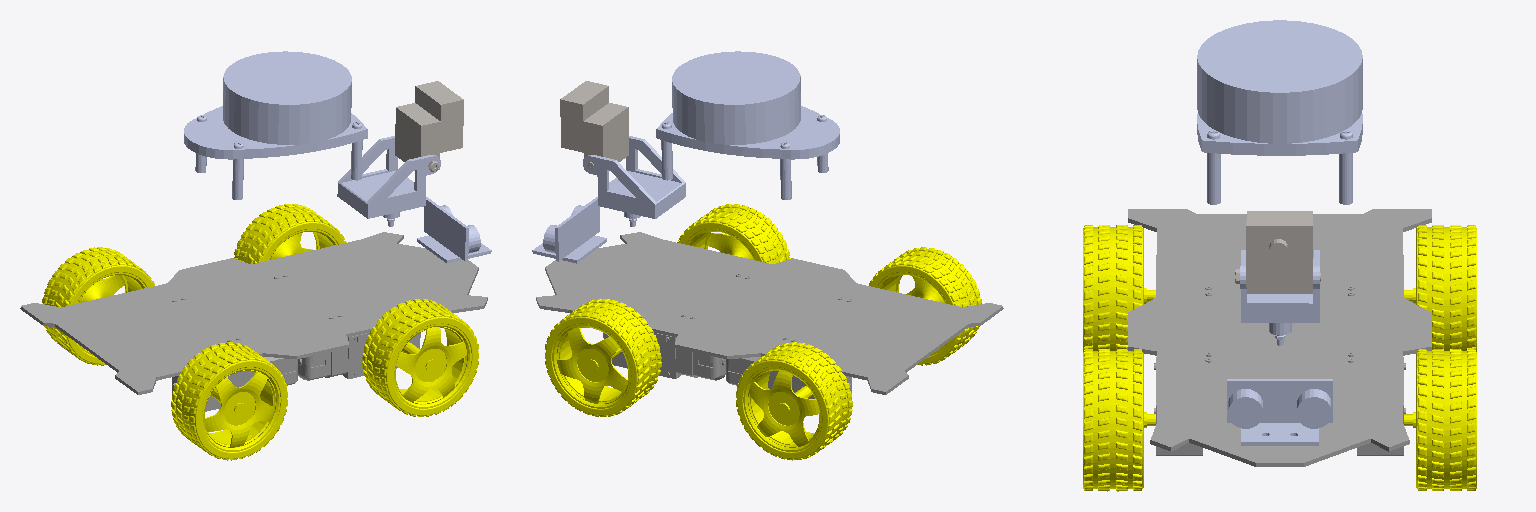
robot.urdf — pmubot_assembly2:
<?xml version="1.0" encoding="utf-8"?>
<!-- This URDF was automatically created by SolidWorks to URDF Exporter! Originally created by [author] ([email redacted]) 
     Commit Version: 1.6.0-4-g7f85cfe  Build Version: 1.6.7995.38578
     For more information, please see http://wiki.ros.org/sw_urdf_exporter -->
<robot
  name="pmubot_assembly2">
  <link
    name="pbot_base">
    <inertial>
      <origin
        xyz="-0.000212194447663593 -0.00144799416234487 0.0371639151331253"
        rpy="0 0 0" />
      <mass
        value="0.888052161793351" />
      <inertia
        ixx="0.000531263296561005"
        ixy="-3.65215923450924E-07"
        ixz="1.61778679682901E-05"
        iyy="0.00115013165869859"
        iyz="-1.80237443214602E-08"
        izz="0.00163705290551028" />
    </inertial>
    <visual>
      <origin
        xyz="0 0 0"
        rpy="0 0 0" />
      <geometry>
        <mesh
          filename="package://pmubot_assembly2/meshes/pbot_base.STL" />
      </geometry>
      <material
        name="">
        <color
          rgba="0.698039215686274 0.698039215686274 0.698039215686274 1" />
      </material>
    </visual>
    <collision>
      <origin
        xyz="0 0 0"
        rpy="0 0 0" />
      <geometry>
        <mesh
          filename="package://pmubot_assembly2/meshes/pbot_base.STL" />
      </geometry>
    </collision>
  </link>
  <link
    name="pbot_rf_w">
    <inertial>
      <origin
        xyz="7.04405284102094E-11 0.000279731374778269 4.45704893131671E-10"
        rpy="0 0 0" />
      <mass
        value="0.0302375584217029" />
      <inertia
        ixx="1.15702195640707E-05"
        ixy="-7.57166982825314E-15"
        ixz="-3.01407530521655E-14"
        iyy="1.96090962980717E-05"
        iyz="-1.06124677525427E-13"
        izz="1.15702201303152E-05" />
    </inertial>
    <visual>
      <origin
        xyz="0 0 0"
        rpy="0 0 0" />
      <geometry>
        <mesh
          filename="package://pmubot_assembly2/meshes/pbot_rf_w.STL" />
      </geometry>
      <material
        name="">
        <color
          rgba="1 1 0 1" />
      </material>
    </visual>
    <collision>
      <origin
        xyz="0 0 0"
        rpy="0 0 0" />
      <geometry>
        <mesh
          filename="package://pmubot_assembly2/meshes/pbot_rf_w.STL" />
      </geometry>
    </collision>
  </link>
  <joint
    name="pbot_rf_w_to_base"
    type="continuous">
    <origin
      xyz="0.0470881159981717 -0.0705 -0.0132839044168557"
      rpy="0 0.016609457820692 0" />
    <parent
      link="pbot_base" />
    <child
      link="pbot_rf_w" />
    <axis
      xyz="0 1 0" />
  </joint>
  <link
    name="pbot_rr_w">
    <inertial>
      <origin
        xyz="5.38798686222641E-10 0.000279731333118954 5.40715007490977E-10"
        rpy="0 0 0" />
      <mass
        value="0.0302375580628956" />
      <inertia
        ixx="1.15702196703268E-05"
        ixy="-1.3444926848086E-13"
        ixz="-3.648973998551E-14"
        iyy="1.96090960765893E-05"
        iyz="-1.23593703580994E-13"
        izz="1.1570219796082E-05" />
    </inertial>
    <visual>
      <origin
        xyz="0 0 0"
        rpy="0 0 0" />
      <geometry>
        <mesh
          filename="package://pmubot_assembly2/meshes/pbot_rr_w.STL" />
      </geometry>
      <material
        name="">
        <color
          rgba="1 1 0 1" />
      </material>
    </visual>
    <collision>
      <origin
        xyz="0 0 0"
        rpy="0 0 0" />
      <geometry>
        <mesh
          filename="package://pmubot_assembly2/meshes/pbot_rr_w.STL" />
      </geometry>
    </collision>
  </link>
  <joint
    name="pbot_rr_w_to_base"
    type="continuous">
    <origin
      xyz="-0.0728953319370115 -0.0705 -0.0112908611194895"
      rpy="0 0.0166094578206924 0" />
    <parent
      link="pbot_base" />
    <child
      link="pbot_rr_w" />
    <axis
      xyz="0 1 0" />
  </joint>
  <link
    name="pbot_lf_w">
    <inertial>
      <origin
        xyz="2.20207470313927E-10 -0.000279731201700426 -2.02053760875454E-10"
        rpy="0 0 0" />
      <mass
        value="0.0302375576064607" />
      <inertia
        ixx="1.15702197035643E-05"
        ixy="5.8788148071093E-14"
        ixz="1.10485744750902E-14"
        iyy="1.96090957656786E-05"
        iyz="-6.70315487762859E-14"
        izz="1.15702193827656E-05" />
    </inertial>
    <visual>
      <origin
        xyz="0 0 0"
        rpy="0 0 0" />
      <geometry>
        <mesh
          filename="package://pmubot_assembly2/meshes/pbot_lf_w.STL" />
      </geometry>
      <material
        name="">
        <color
          rgba="1 1 0 1" />
      </material>
    </visual>
    <collision>
      <origin
        xyz="0 0 0"
        rpy="0 0 0" />
      <geometry>
        <mesh
          filename="package://pmubot_assembly2/meshes/pbot_lf_w.STL" />
      </geometry>
    </collision>
  </link>
  <joint
    name="pbot_lf_w_to_base"
    type="continuous">
    <origin
      xyz="0.0470881159981717 0.0705 -0.0132839044168557"
      rpy="0 0.0166094578206922 0" />
    <parent
      link="pbot_base" />
    <child
      link="pbot_lf_w" />
    <axis
      xyz="0 -1 0" />
  </joint>
  <link
    name="pbot_lr_w">
    <inertial>
      <origin
        xyz="3.29489630024327E-11 -0.0002797313481048 -1.85563862886706E-10"
        rpy="0 0 0" />
      <mass
        value="0.0302375580133055" />
      <inertia
        ixx="1.15702196840428E-05"
        ixy="-2.03000475402312E-14"
        ixz="1.06746870190032E-13"
        iyy="1.96090960377303E-05"
        iyz="-5.58321083325077E-14"
        izz="1.15702197584358E-05" />
    </inertial>
    <visual>
      <origin
        xyz="0 0 0"
        rpy="0 0 0" />
      <geometry>
        <mesh
          filename="package://pmubot_assembly2/meshes/pbot_lr_w.STL" />
      </geometry>
      <material
        name="">
        <color
          rgba="1 1 0 1" />
      </material>
    </visual>
    <collision>
      <origin
        xyz="0 0 0"
        rpy="0 0 0" />
      <geometry>
        <mesh
          filename="package://pmubot_assembly2/meshes/pbot_lr_w.STL" />
      </geometry>
    </collision>
  </link>
  <joint
    name="pbot_lr_w_to_base"
    type="continuous">
    <origin
      xyz="-0.0728953319370116 0.0705 -0.0112908611194895"
      rpy="0 0.0166094578206921 0" />
    <parent
      link="pbot_base" />
    <child
      link="pbot_lr_w" />
    <axis
      xyz="0 -1 0" />
  </joint>
  <link
    name="pbot_sonar">
    <inertial>
      <origin
        xyz="0.00254491682770949 -4.23266584576622E-18 -0.00442304839537571"
        rpy="0 0 0" />
      <mass
        value="0.0495110191487618" />
      <inertia
        ixx="1.03481074988365E-05"
        ixy="-1.48112545695529E-21"
        ixz="2.35878891442608E-07"
        iyy="3.04932164399552E-06"
        iyz="1.63262731511754E-21"
        izz="9.79795359146923E-06" />
    </inertial>
    <visual>
      <origin
        xyz="0 0 0"
        rpy="0 0 0" />
      <geometry>
        <mesh
          filename="package://pmubot_assembly2/meshes/pbot_sonar.STL" />
      </geometry>
      <material
        name="">
        <color
          rgba="0.792156862745098 0.819607843137255 0.933333333333333 1" />
      </material>
    </visual>
    <collision>
      <origin
        xyz="0 0 0"
        rpy="0 0 0" />
      <geometry>
        <mesh
          filename="package://pmubot_assembly2/meshes/pbot_sonar.STL" />
      </geometry>
    </collision>
  </link>
  <joint
    name="sonar_to_base"
    type="fixed">
    <origin
      xyz="0.1048 0 0.023015"
      rpy="0 0.016609 0" />
    <parent
      link="pbot_base" />
    <child
      link="pbot_sonar" />
    <axis
      xyz="0 0 0" />
  </joint>
  <link
    name="pbot_camera_h">
    <inertial>
      <origin
        xyz="-0.00442120427949036 1.89949483748387E-05 -0.00284622380073214"
        rpy="0 0 0" />
      <mass
        value="0.107749250099924" />
      <inertia
        ixx="1.66906472405085E-05"
        ixy="2.34004269563963E-09"
        ixz="-2.00817695580187E-06"
        iyy="1.72352983259005E-05"
        iyz="8.62778612342202E-09"
        izz="2.41544637259914E-05" />
    </inertial>
    <visual>
      <origin
        xyz="0 0 0"
        rpy="0 0 0" />
      <geometry>
        <mesh
          filename="package://pmubot_assembly2/meshes/pbot_camera_h.STL" />
      </geometry>
      <material
        name="">
        <color
          rgba="0.792156862745098 0.819607843137255 0.933333333333333 1" />
      </material>
    </visual>
    <collision>
      <origin
        xyz="0 0 0"
        rpy="0 0 0" />
      <geometry>
        <mesh
          filename="package://pmubot_assembly2/meshes/pbot_camera_h.STL" />
      </geometry>
    </collision>
  </link>
  <joint
    name="camera_h_to_base"
    type="continuous">
    <origin
      xyz="0.069451 8.5741E-05 0.057354"
      rpy="0 0.016609 0" />
    <parent
      link="pbot_base" />
    <child
      link="pbot_camera_h" />
    <axis
      xyz="0 0 -1" />
  </joint>
  <link
    name="pbot_camera_v">
    <inertial>
      <origin
        xyz="0.00666977708243387 -0.0144960911947171 0.0135514367296394"
        rpy="0 0 0" />
      <mass
        value="0.0237451656745337" />
      <inertia
        ixx="3.58294133330356E-06"
        ixy="1.26129462744684E-09"
        ixz="-7.07892718500619E-07"
        iyy="3.26994433858154E-06"
        iyz="7.33327247126989E-10"
        izz="2.88968628542964E-06" />
    </inertial>
    <visual>
      <origin
        xyz="0 0 0"
        rpy="0 0 0" />
      <geometry>
        <mesh
          filename="package://pmubot_assembly2/meshes/pbot_camera_v.STL" />
      </geometry>
      <material
        name="">
        <color
          rgba="0.776470588235294 0.756862745098039 0.737254901960784 1" />
      </material>
    </visual>
    <collision>
      <origin
        xyz="0 0 0"
        rpy="0 0 0" />
      <geometry>
        <mesh
          filename="package://pmubot_assembly2/meshes/pbot_camera_v.STL" />
      </geometry>
    </collision>
  </link>
  <joint
    name="camera_v_to_camera_h"
    type="continuous">
    <origin
      xyz="0.016051 0.014031 0.0145"
      rpy="0 0 -0.0042963" />
    <parent
      link="pbot_camera_h" />
    <child
      link="pbot_camera_v" />
    <axis
      xyz="0 -1 0" />
  </joint>
  <link
    name="laser_frame">
    <inertial>
      <origin
        xyz="0.00208191942450915 3.89951965604511E-18 -0.00385299208880718"
        rpy="0 0 0" />
      <mass
        value="0.968613348864224" />
      <inertia
        ixx="0.000334583006933795"
        ixy="-5.33407128608831E-20"
        ixz="1.81257759360738E-21"
        iyy="0.000411095059912044"
        iyz="-3.2970666661773E-21"
        izz="0.000675110546906932" />
    </inertial>
    <visual>
      <origin
        xyz="0 0 0"
        rpy="0 0 0" />
      <geometry>
        <mesh
          filename="package://pmubot_assembly2/meshes/laser_frame.STL" />
      </geometry>
      <material
        name="">
        <color
          rgba="0.792156862745098 0.819607843137255 0.933333333333333 1" />
      </material>
    </visual>
    <collision>
      <origin
        xyz="0 0 0"
        rpy="0 0 0" />
      <geometry>
        <mesh
          filename="package://pmubot_assembly2/meshes/laser_frame.STL" />
      </geometry>
    </collision>
  </link>
  <joint
    name="laser_joint"
    type="fixed">
    <origin
      xyz="0.0039648 0 0.12415"
      rpy="0 -0.016609 3.1416" />
    <parent
      link="pbot_base" />
    <child
      link="laser_frame" />
    <axis
      xyz="0 0 0" />
  </joint>
</robot>

--- What the picture shows (computed from the rendered views, not written in the file) ---
Views: 3 orthographic renders of the robot side by side, from view 1: azimuth 30°, elevation 25°; view 2: azimuth 150°, elevation 25°; view 3: azimuth 270°, elevation 25°.
Robot: pmubot_assembly2 — 9 links, 8 joints (6 continuous, 2 fixed); root link pbot_base; default pose: all joints at 0.
Links seen in each view (by area): view 1: pbot_base, laser_frame, pbot_rf_w, pbot_rr_w, pbot_lr_w, pbot_camera_h, pbot_camera_v, pbot_lf_w, pbot_sonar; view 2: pbot_base, laser_frame, pbot_lr_w, pbot_lf_w, pbot_camera_h, pbot_rr_w, pbot_camera_v, pbot_rf_w, pbot_sonar; view 3: pbot_base, laser_frame, pbot_rf_w, pbot_lf_w, pbot_rr_w, pbot_lr_w, pbot_sonar, pbot_camera_v, pbot_camera_h.
Boxes of the visible links, box(x1,y1,x2,y2) form: pbot_base: box(20, 232, 487, 411); laser_frame: box(184, 51, 367, 199); pbot_rf_w: box(362, 299, 478, 416); pbot_rr_w: box(171, 342, 287, 460); pbot_lr_w: box(42, 247, 154, 365); pbot_camera_h: box(337, 136, 440, 226); pbot_camera_v: box(395, 81, 463, 171); pbot_lf_w: box(233, 204, 346, 263); pbot_sonar: box(417, 197, 491, 263); pbot_base: box(536, 232, 1003, 398); laser_frame: box(656, 51, 839, 199); pbot_lr_w: box(736, 342, 852, 460); pbot_lf_w: box(545, 299, 661, 416); pbot_camera_h: box(583, 136, 685, 226); pbot_rr_w: box(869, 247, 981, 365); pbot_camera_v: box(560, 81, 628, 169); pbot_rf_w: box(677, 204, 790, 263); pbot_sonar: box(532, 197, 606, 263); pbot_base: box(1128, 209, 1431, 466); laser_frame: box(1197, 20, 1362, 204); pbot_rf_w: box(1083, 349, 1155, 491); pbot_lf_w: box(1404, 349, 1476, 490); pbot_rr_w: box(1083, 225, 1155, 351); pbot_lr_w: box(1404, 225, 1476, 351); pbot_sonar: box(1227, 379, 1332, 445); pbot_camera_v: box(1235, 211, 1320, 293); pbot_camera_h: box(1240, 250, 1319, 345).
Size in the robot's own frame: 0.2492 by 0.1668 by 0.1802 metres.
9 mesh visuals loaded from 9 distinct referenced files (9 binary STL).